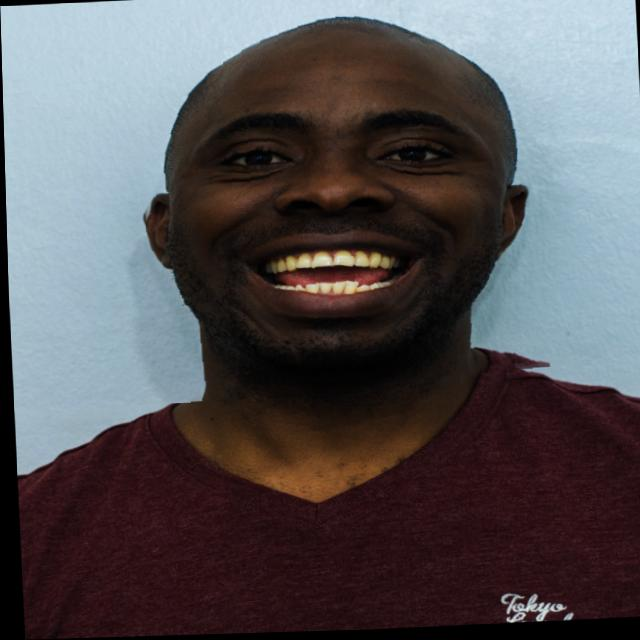happy: (130, 1, 543, 401)
